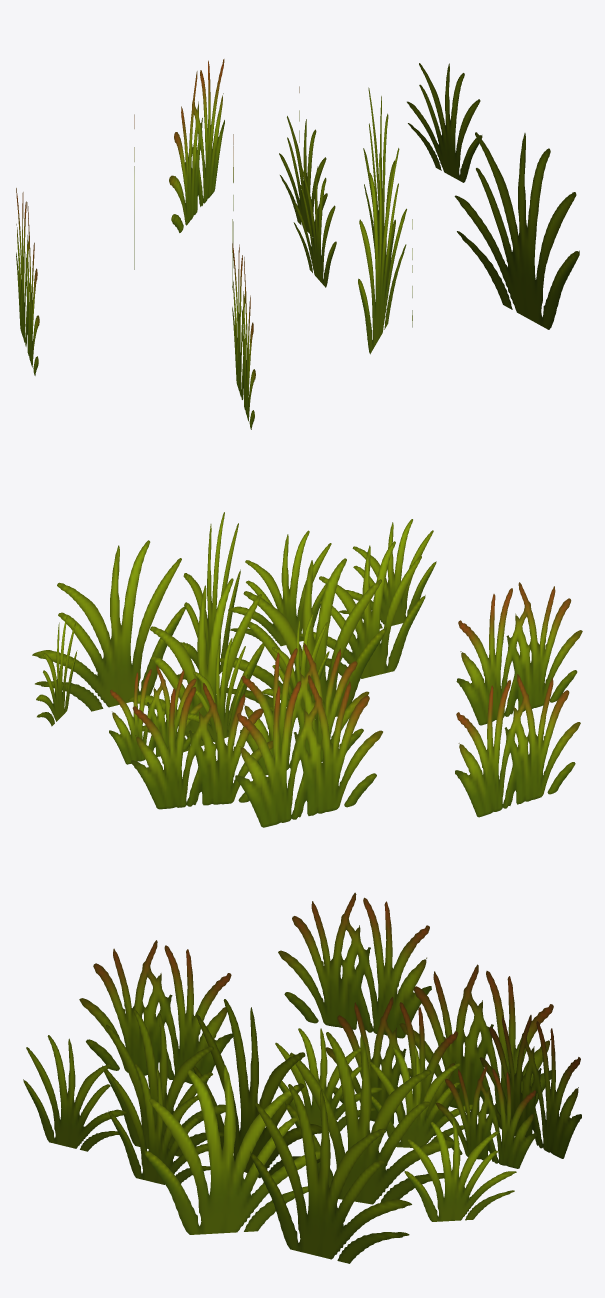
File: Grass1.FBX
3 views of the same model, one above another, from view 1: azimuth 30°, elevation 25°; view 2: azimuth 150°, elevation 25°; view 3: azimuth 270°, elevation 25° (orthographic). The views are drawn at different scales.
Visible parts, largest first — view 1: Grass1; view 2: Grass1; view 3: Grass1.
Boxes of the visible parts, x1,y1,x2,y2 form: Grass1: (16, 59, 579, 429); Grass1: (32, 512, 582, 827); Grass1: (23, 892, 581, 1263).
Bounding box in the file's own units: 10.08 × 3.22 × 9.64.
